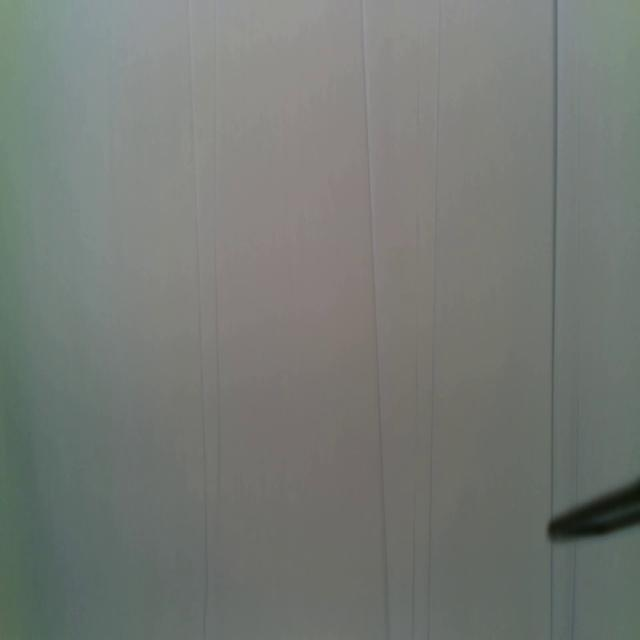crease: (360, 0, 390, 640), (187, 0, 209, 640), (425, 1, 442, 640), (212, 1, 226, 496), (409, 66, 421, 639), (549, 0, 559, 512), (573, 68, 582, 504), (569, 540, 579, 640), (547, 542, 556, 639)
